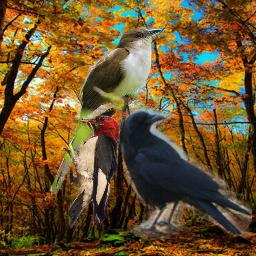Crow: (119, 105, 252, 240)
Cuckoo: (49, 26, 163, 195)
Woodpecker: (60, 115, 120, 229)
